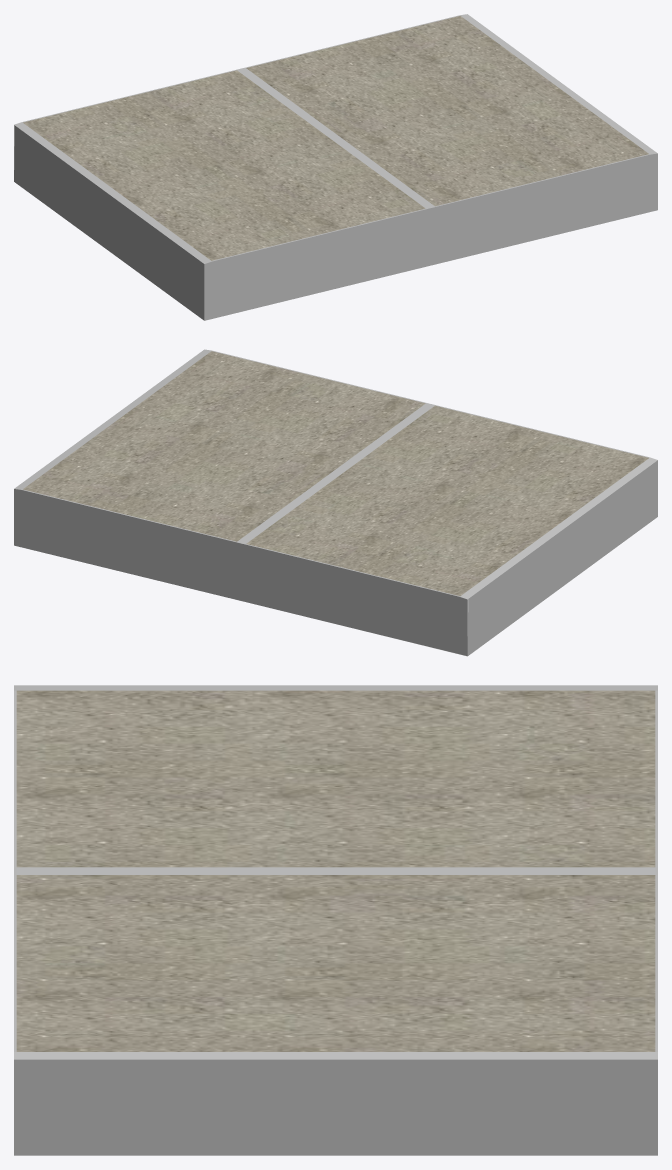
Rendered from road_01a.fbx.
3 views of the same model, one above another, from view 1: azimuth 30°, elevation 25°; view 2: azimuth 150°, elevation 25°; view 3: azimuth 270°, elevation 25° (orthographic). The views are drawn at different scales.
Parts seen in each view (by area): view 1: road_01a; view 2: road_01a; view 3: road_01a.
Part boxes in pixels (<box>): road_01a: <box>14,14,657,320</box>; road_01a: <box>14,349,657,656</box>; road_01a: <box>14,685,657,1155</box>.
Size of the model in its own units: 16.5 by 2.01 by 12.
